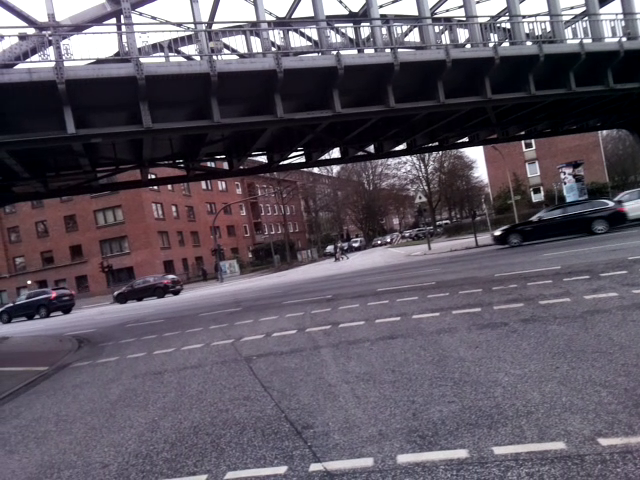car: (491, 197, 636, 244), (1, 281, 78, 328), (108, 273, 191, 299)
